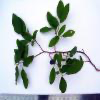Blueberry leaf: (65, 63, 84, 78), (56, 0, 68, 23), (44, 12, 59, 28), (20, 68, 30, 90), (48, 36, 61, 49), (58, 77, 68, 93), (23, 54, 35, 67), (49, 67, 56, 86), (63, 29, 77, 38), (58, 24, 66, 36)
